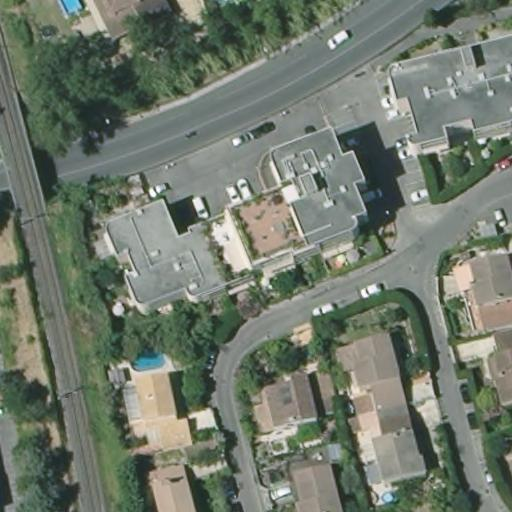pool: (128, 349, 168, 372), (61, 0, 83, 15), (382, 488, 394, 504)
